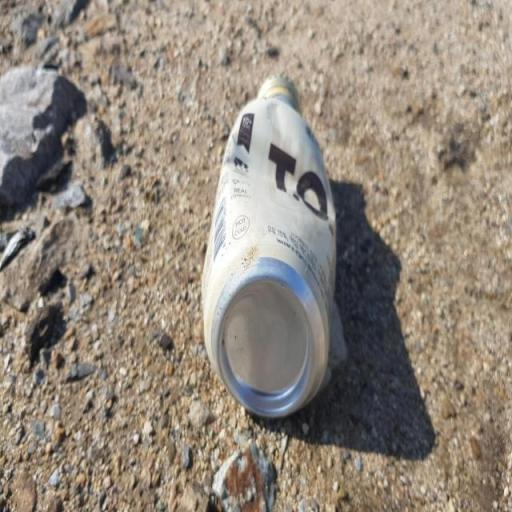metal: (192, 54, 360, 422)
